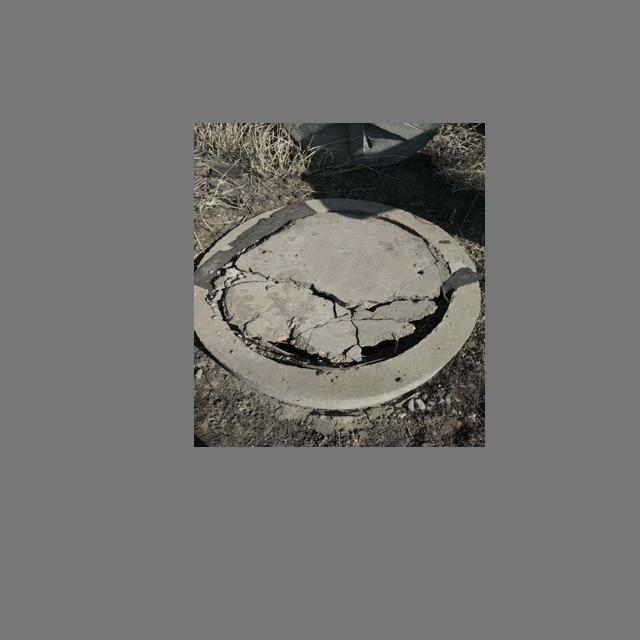broke: (201, 196, 470, 404)
